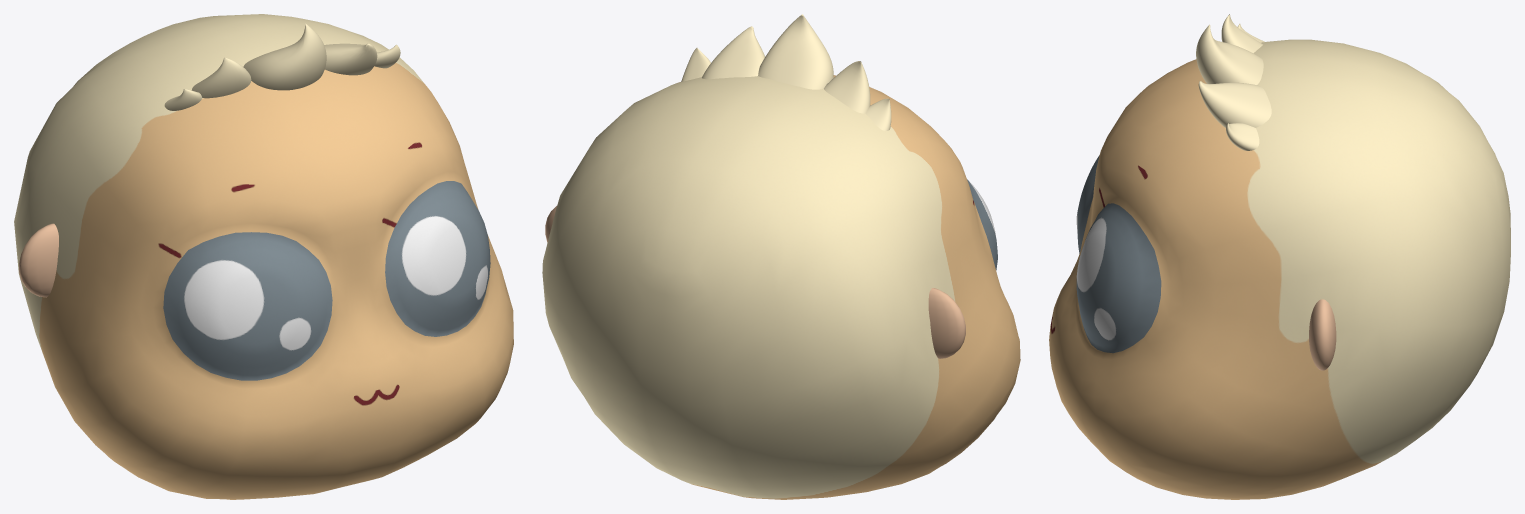
File: aziraphale.glb
3 renders of one model, left to right at view 1: azimuth 30°, elevation 25°; view 2: azimuth 150°, elevation 25°; view 3: azimuth 270°, elevation 25°, orthographic. The views are drawn at different scales.
Visible parts, largest first — view 1: body, NurbsPath.002, ear, NurbsPath.001, NurbsPath.003; view 2: body, NurbsPath.002, ear, NurbsPath.001, NurbsPath.003, NurbsPath.004, NurbsPath.005; view 3: body, NurbsPath.002, NurbsPath.001, ear, NurbsPath.005, NurbsPath.003.
Part boxes in pixels (left/top/right/bottom): body: left=14, top=14, right=513, bottom=499; NurbsPath.002: left=243, top=23, right=326, bottom=90; ear: left=19, top=223, right=58, bottom=297; NurbsPath.001: left=324, top=43, right=377, bottom=75; NurbsPath.003: left=191, top=57, right=251, bottom=98; body: left=542, top=75, right=1020, bottom=499; NurbsPath.002: left=758, top=14, right=833, bottom=89; ear: left=545, top=206, right=965, bottom=358; NurbsPath.001: left=702, top=26, right=764, bottom=79; NurbsPath.003: left=824, top=61, right=870, bottom=113; NurbsPath.004: left=865, top=98, right=891, bottom=130; NurbsPath.005: left=681, top=48, right=710, bottom=81; body: left=1049, top=39, right=1510, bottom=499; NurbsPath.002: left=1196, top=24, right=1263, bottom=84; NurbsPath.001: left=1198, top=81, right=1271, bottom=127; ear: left=1309, top=299, right=1336, bottom=370; NurbsPath.005: left=1226, top=123, right=1259, bottom=150; NurbsPath.003: left=1221, top=14, right=1262, bottom=53.
Bounding box in the file's own units: 1.02 × 1.01 × 0.9678.
Materials: 3 (1 with a texture image).
